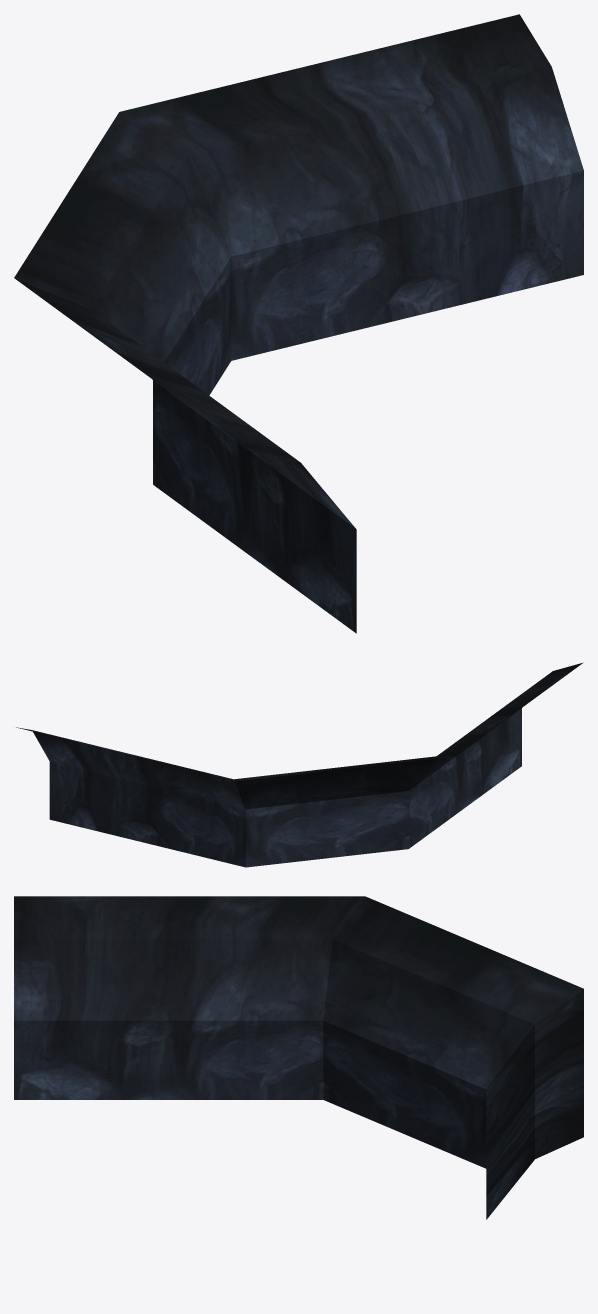
Rendered from mine_cap_concave_01.fbx.
3 renders of one model, top to bottom at view 1: azimuth 30°, elevation 25°; view 2: azimuth 150°, elevation 25°; view 3: azimuth 270°, elevation 25°, orthographic. The views are drawn at different scales.
Parts seen in each view (by area): view 1: obj0.061; view 2: obj0.061; view 3: obj0.061.
Boxes of the visible parts, bbox=[...] form: obj0.061: bbox=[14, 14, 583, 633]; obj0.061: bbox=[16, 662, 583, 867]; obj0.061: bbox=[14, 896, 583, 1219].
Bounding box in the file's own units: 4.38 × 1.38 × 4.38.
